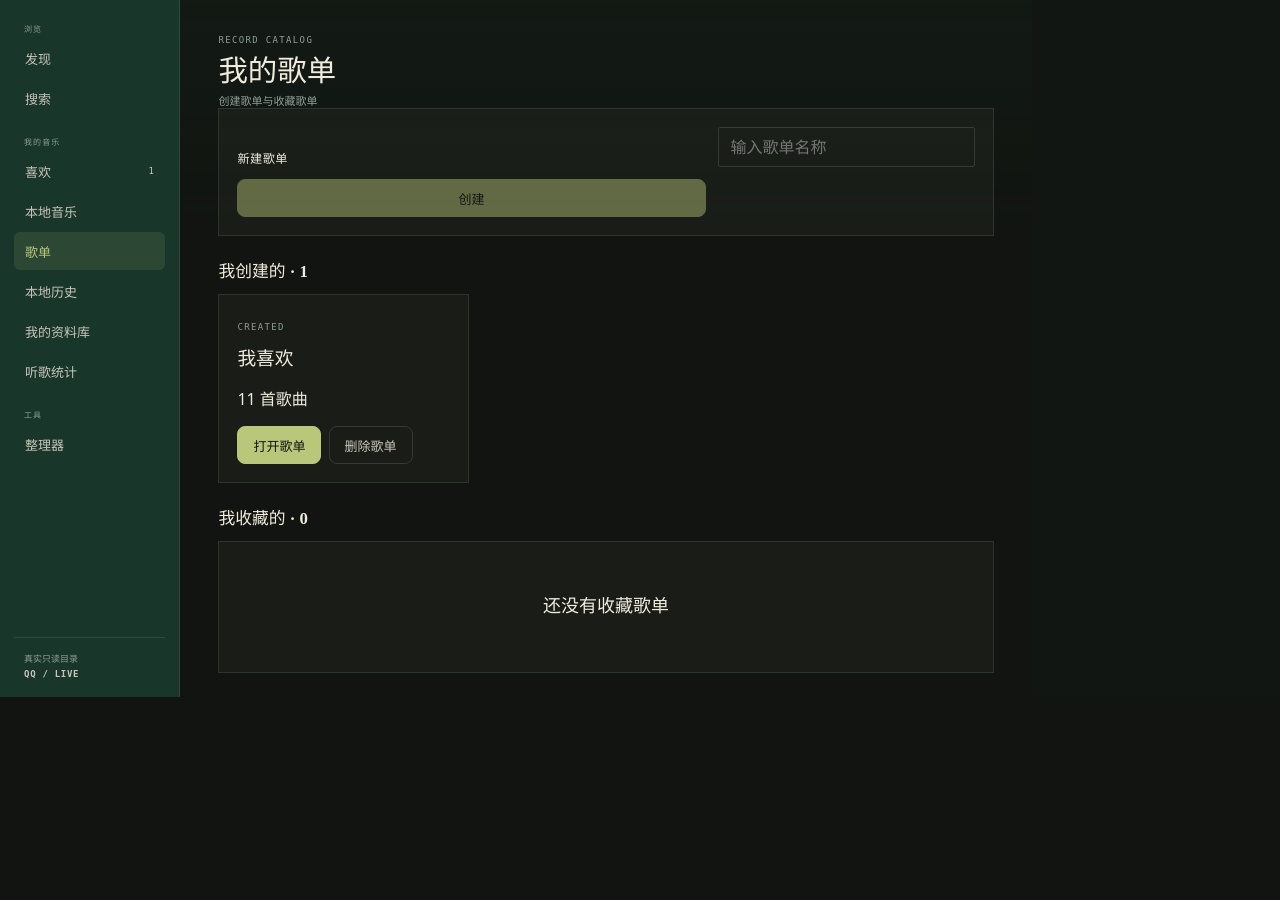
it: live catalog workspace › 从真实歌单卡片打开详情并返回列表
expect the heading "我创建的 · 1" is shown: met, box [218, 262, 308, 281]
Click the button "打开歌单": (279, 445) [237, 426, 321, 464]
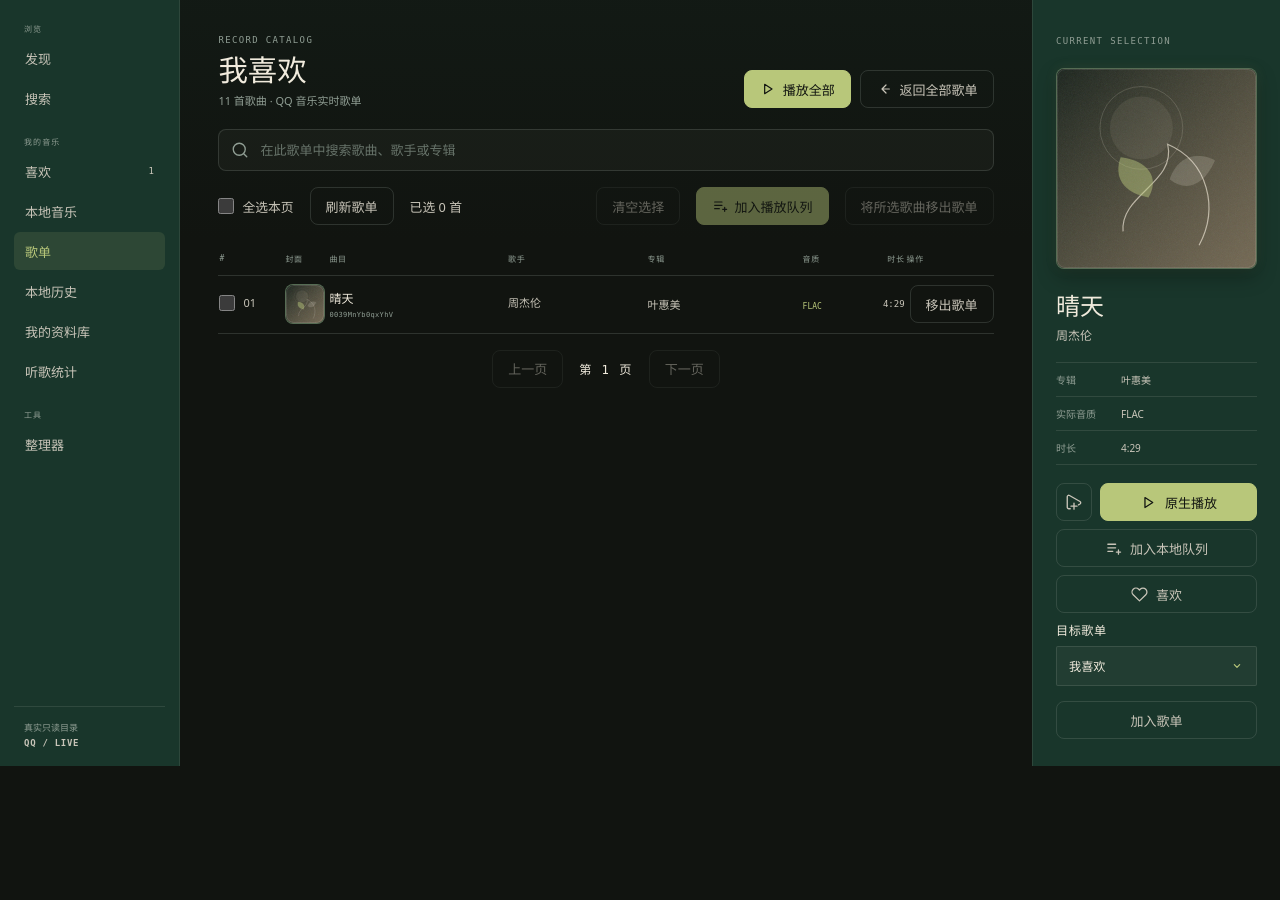
expect the heading "我喜欢" is shown: met, box [218, 55, 307, 87]
expect the text "晴天" is shown: met, box [329, 290, 353, 307]
Click the button "返回全部歌单": (927, 89) [860, 70, 994, 108]
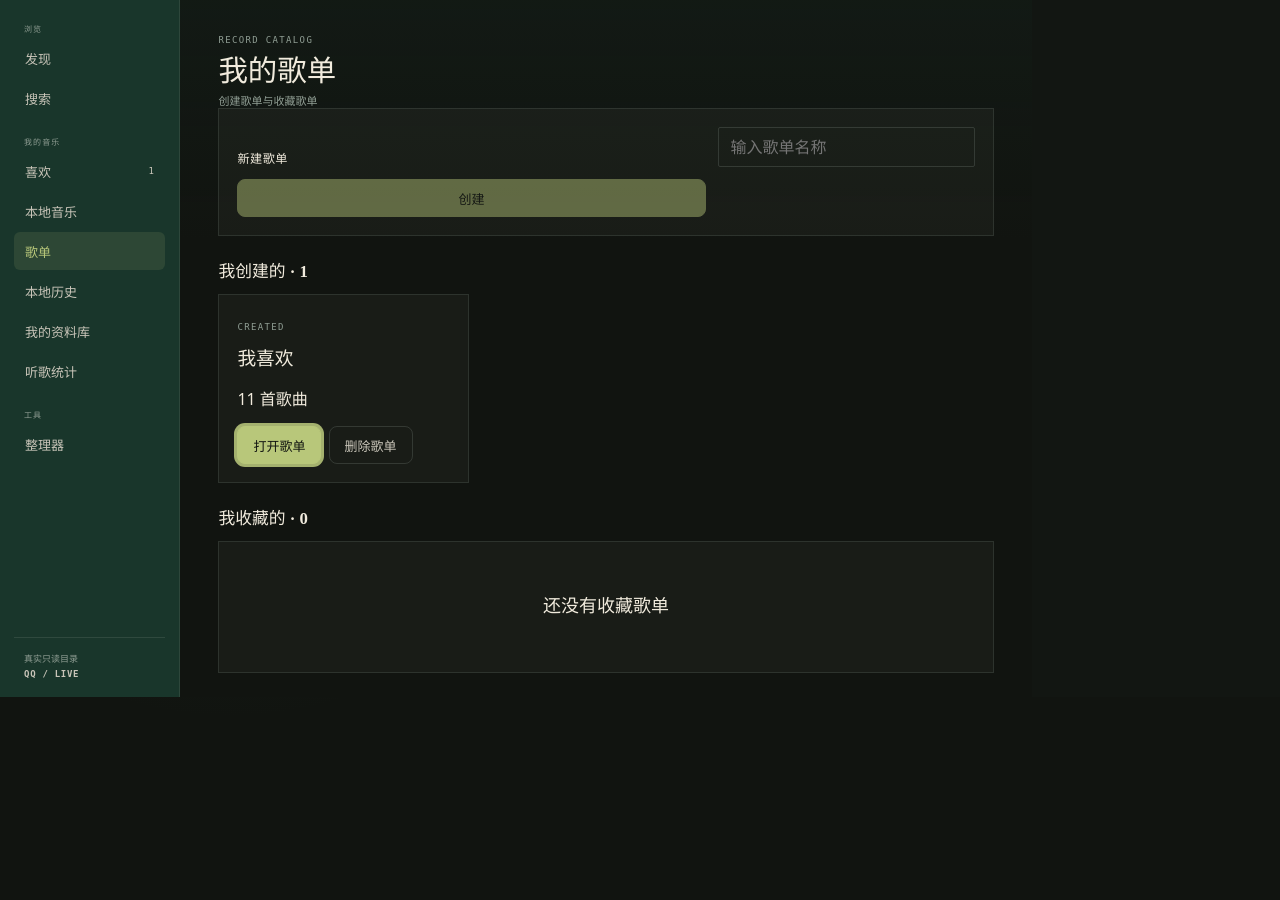
expect the heading "我的歌单" is shown: met, box [218, 54, 336, 89]
